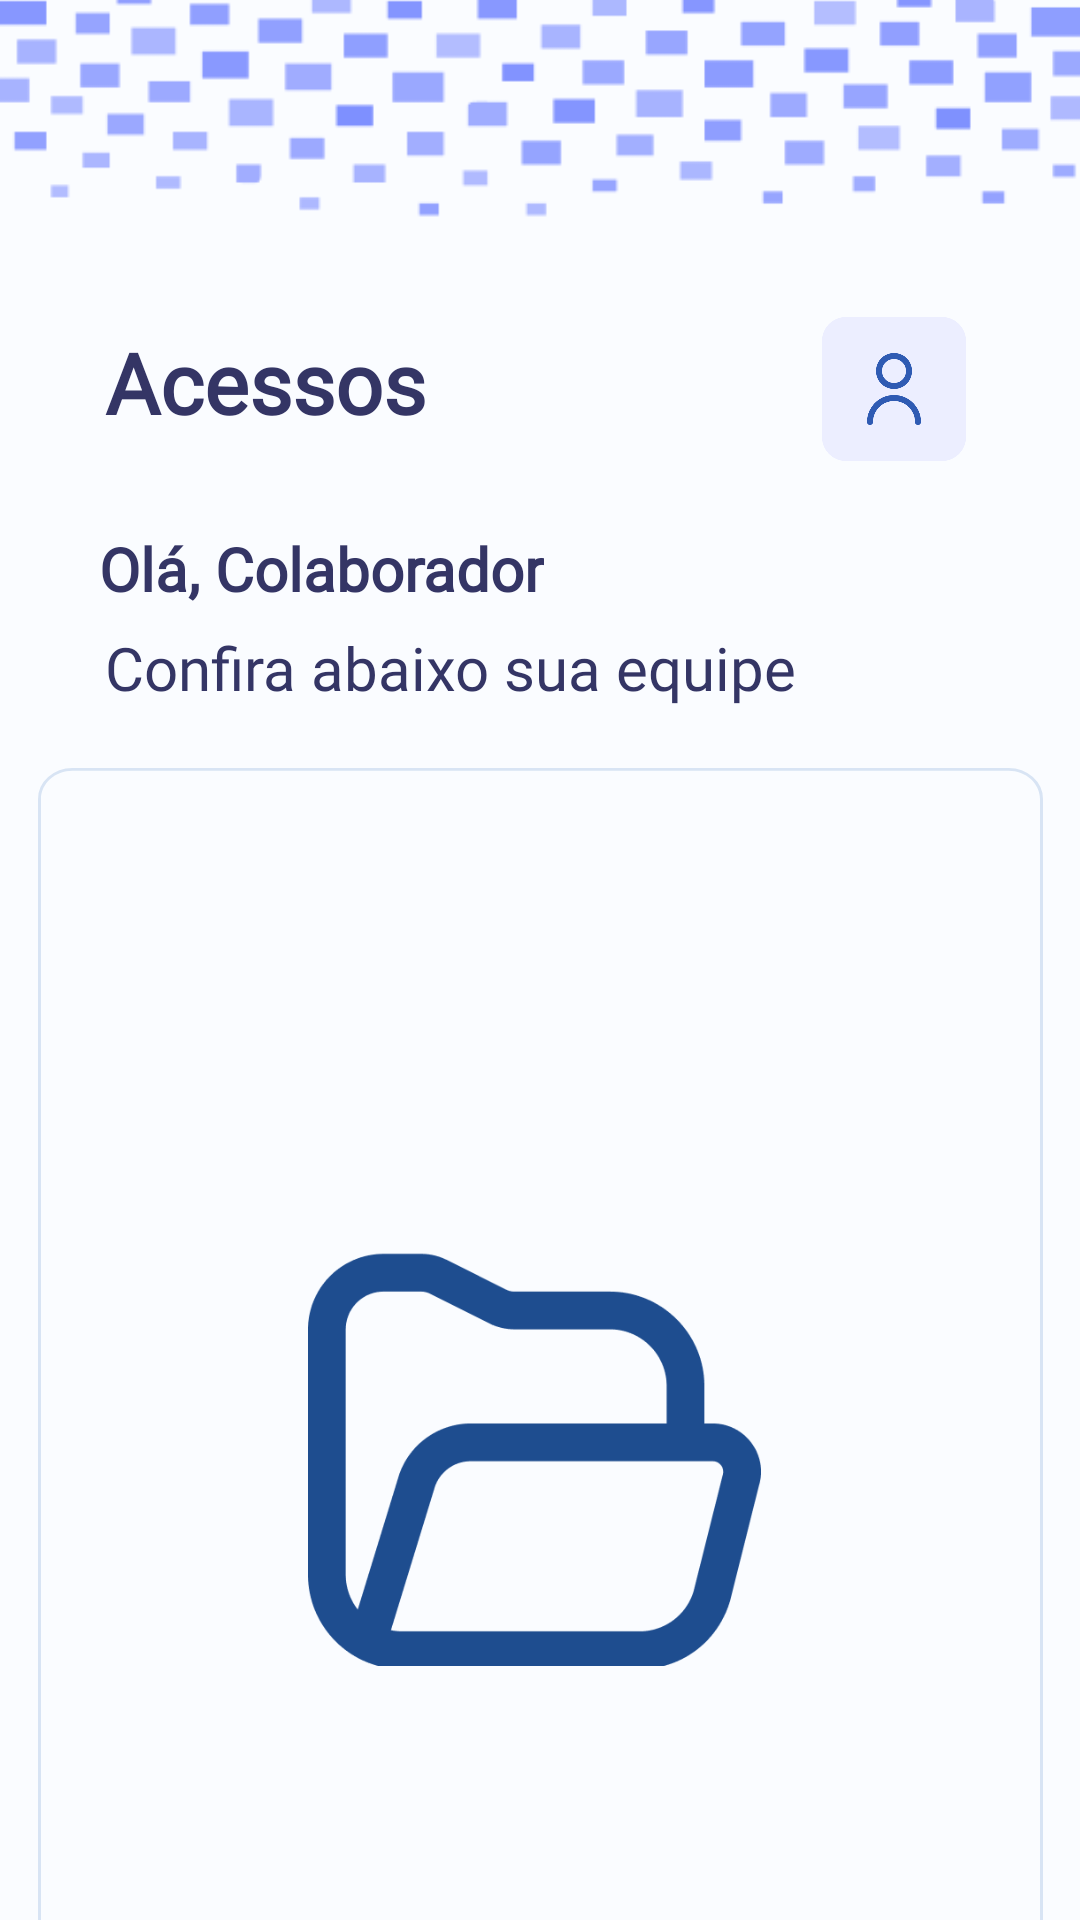

Icon bounding boxes for this 1080w x 1920h phone screenshot, format (x1, y1, x2, y2):
perfil: (822, 317, 966, 461)
